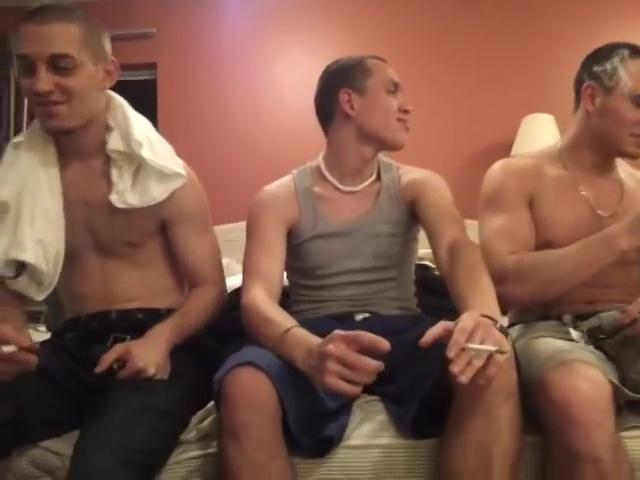cigarette: (464, 341, 510, 358)
